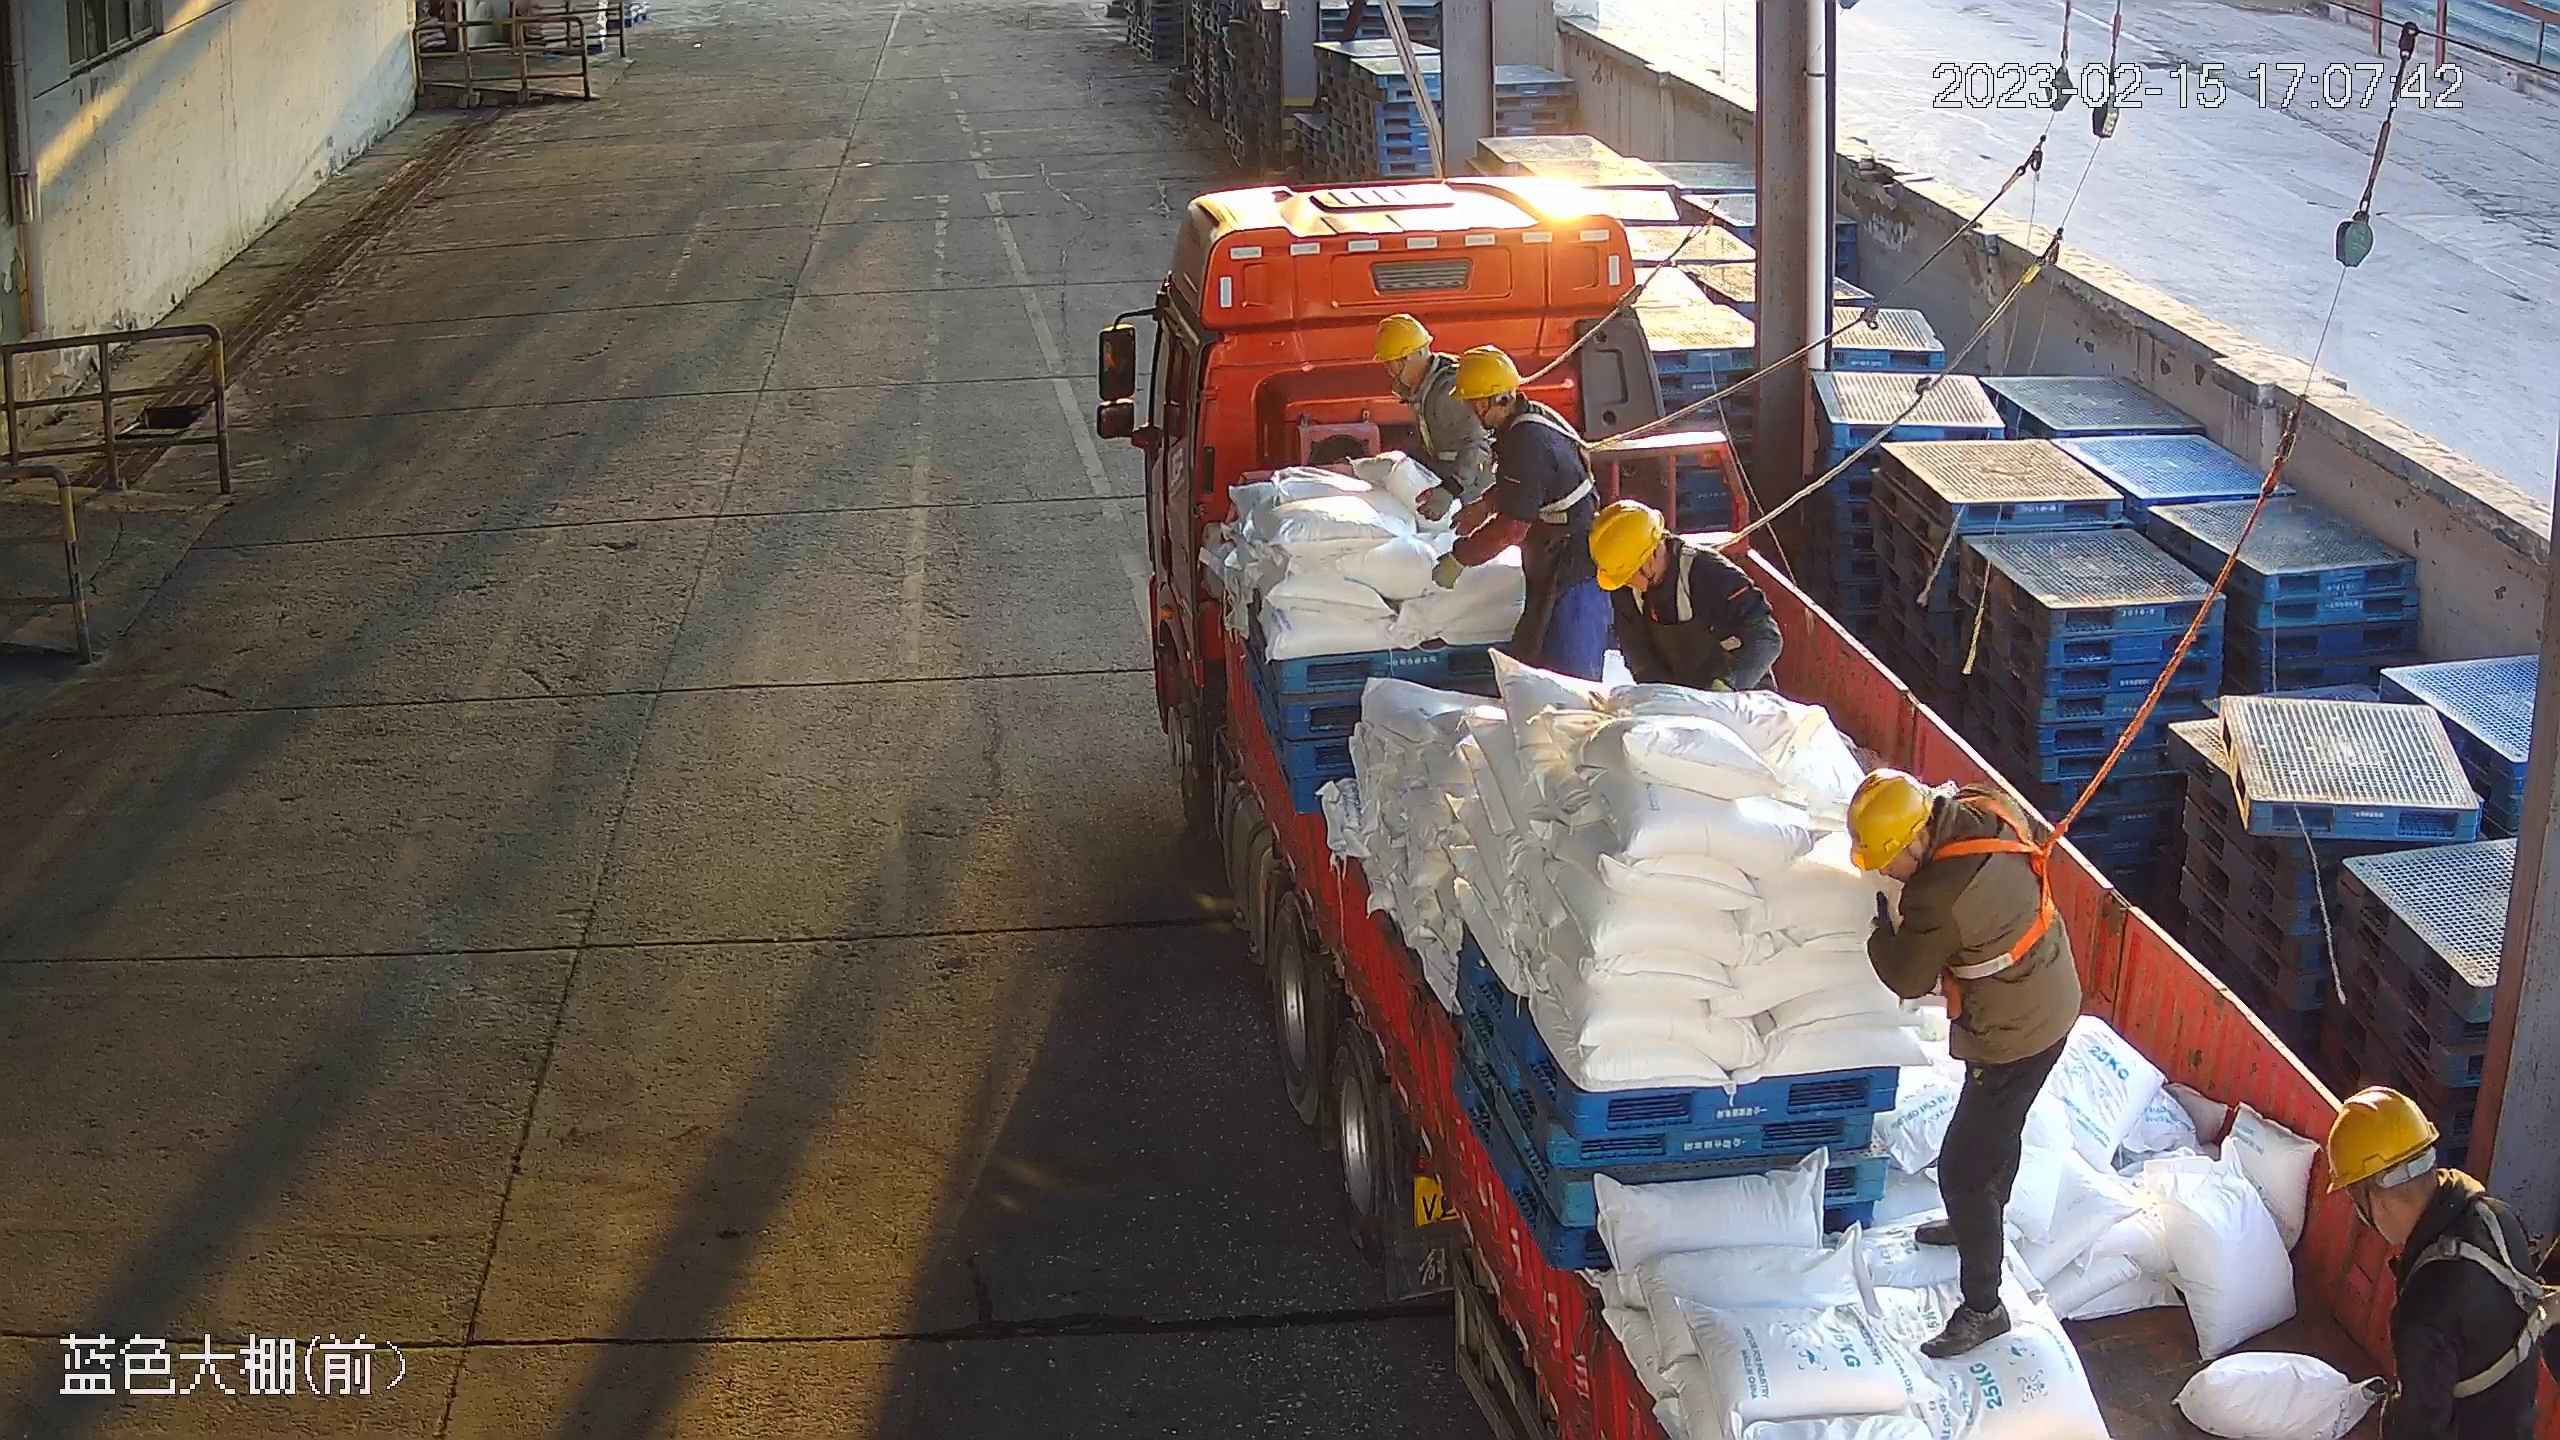belt: (1926, 795, 2069, 1024), (2405, 1199, 2560, 1401), (1510, 399, 1605, 524), (1629, 541, 1732, 623), (1408, 352, 1461, 464)
head: (2321, 1081, 2532, 1320), (1845, 767, 2036, 941), (1586, 496, 1750, 610), (1447, 345, 1562, 462), (1371, 312, 1465, 415)
helmet: (2323, 1082, 2443, 1197), (1844, 766, 1934, 871), (1587, 498, 1666, 592), (1447, 344, 1522, 400), (1371, 312, 1435, 363)
people: (1845, 765, 2086, 1360), (1429, 344, 1614, 684), (1371, 312, 1497, 523)
truck: (1094, 171, 2560, 1440)
